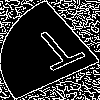T: (25, 25, 94, 80)
